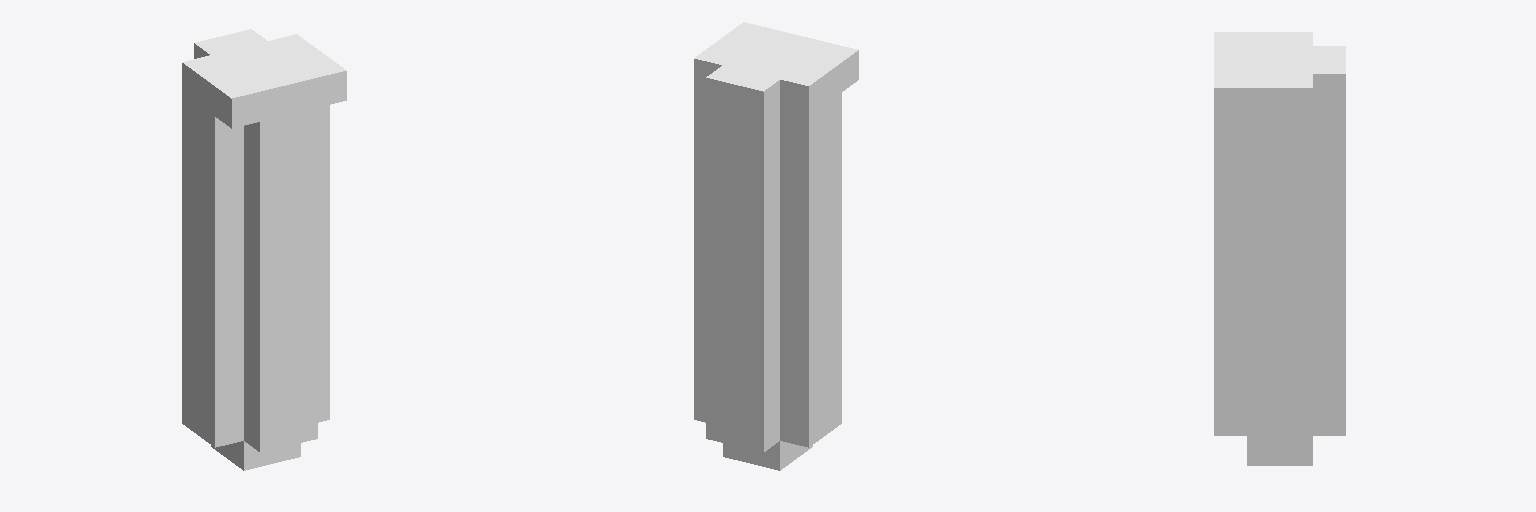
Rendered from Bernard_tail_lower.obj.
3 renders of one model, left to right at view 1: azimuth 30°, elevation 25°; view 2: azimuth 150°, elevation 25°; view 3: azimuth 270°, elevation 25°, orthographic.
Parts seen in each view (by area): view 1: Bernard; view 2: Bernard; view 3: Bernard.
Boxes of the visible parts, <box> form: Bernard: <box>182,29,346,470</box>; Bernard: <box>694,22,858,470</box>; Bernard: <box>1214,32,1345,465</box>.
Bounding box in the file's own units: 0.4 × 1.3 × 0.4.